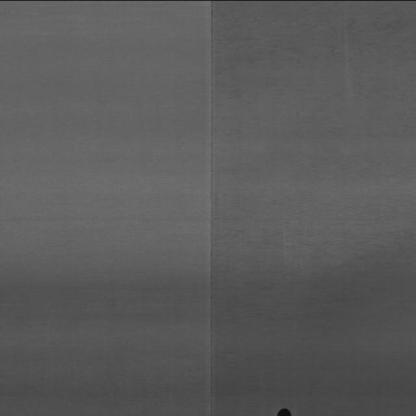punching_hole: (274, 407, 296, 416)
